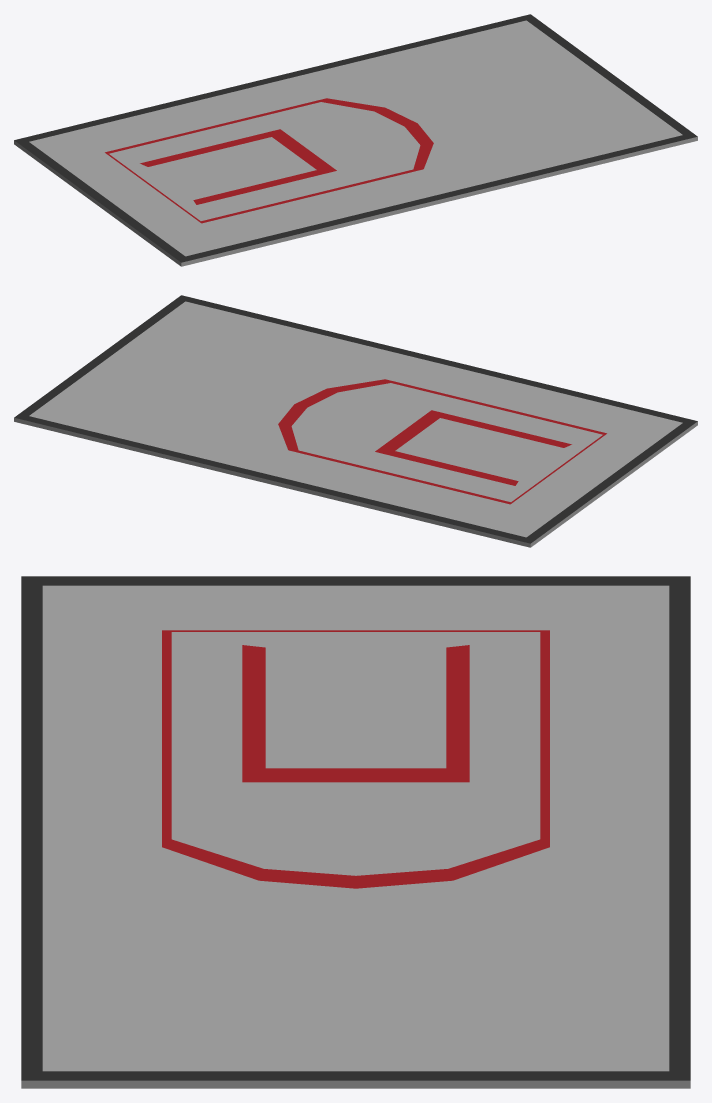
Rendered from court_1.fbx.
The picture shows the model from 3 angles, top to bottom: view 1: azimuth 30°, elevation 25°; view 2: azimuth 150°, elevation 25°; view 3: azimuth 270°, elevation 25°; orthographic projection. The views are drawn at different scales.
Parts seen in each view (by area): view 1: Cube; view 2: Cube; view 3: Cube.
Boxes of the visible parts, box(x1,y1,x2,y2) form: Cube: box(14, 14, 697, 266); Cube: box(14, 295, 697, 547); Cube: box(21, 576, 690, 1088).
Size of the model in its own units: 6263 by 47.27 by 3514.
